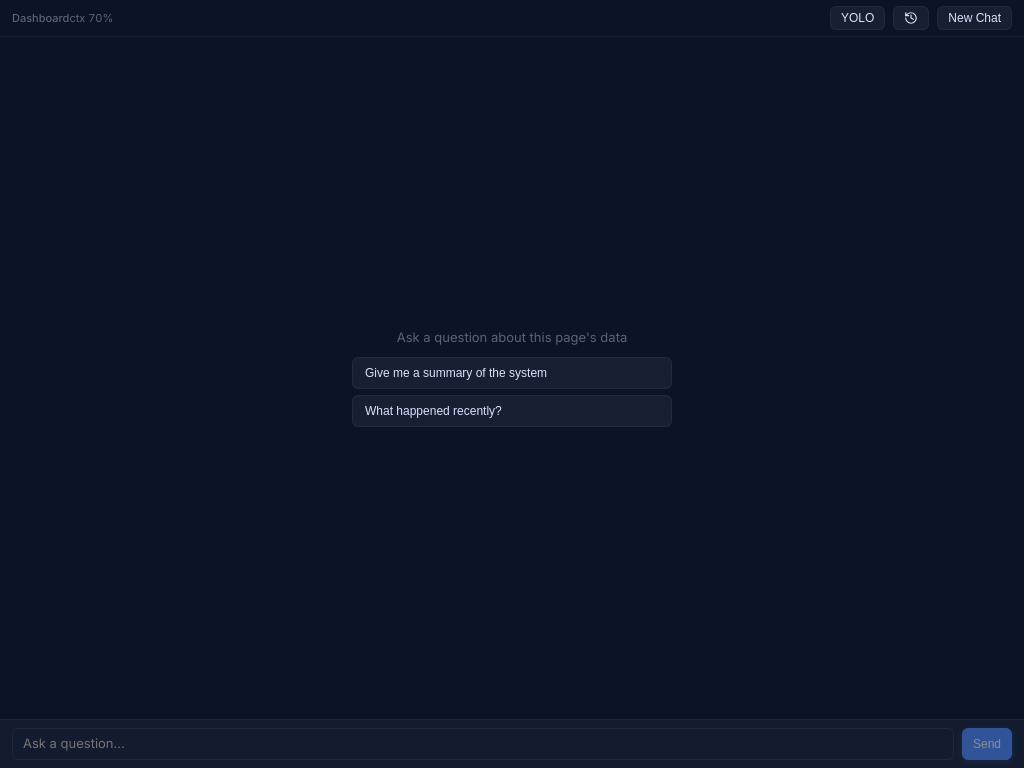
Scenario: AiChatPanel › clears context usage on new conversation
Expected: the text "ctx 70%" is shown, [69,11,113,25]
Step 1. Click the button with test id "ai-chat-new-btn" → [975, 18], box [937,6,1012,30]
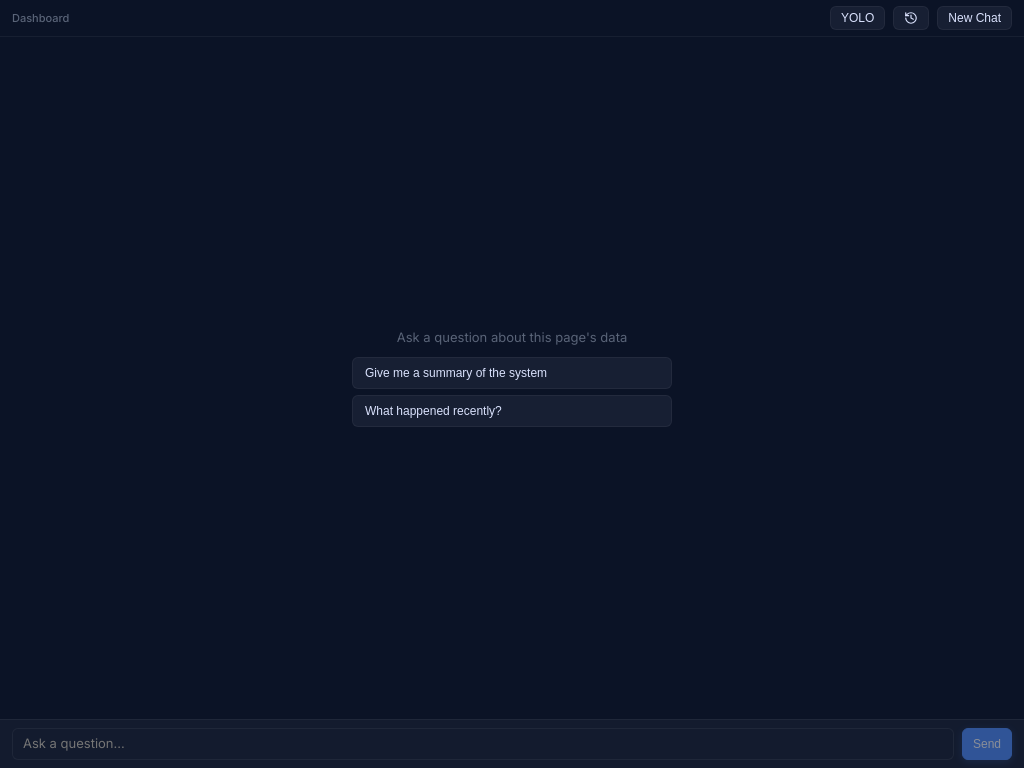
Expected: the text with test id "ai-chat-context-usage" is gone
